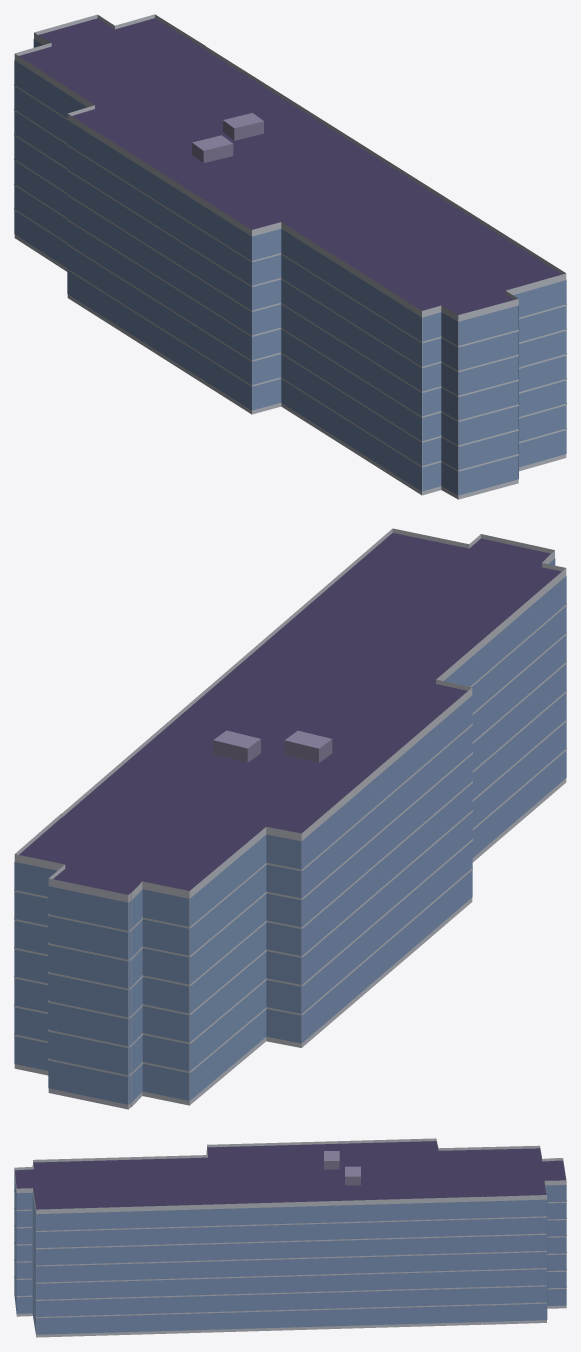
The model's file is b-135-thompson-engineering-building-day.glb.
3 views of the same model, one above another, from view 1: azimuth 30°, elevation 25°; view 2: azimuth 150°, elevation 25°; view 3: azimuth 270°, elevation 25° (orthographic). The views are drawn at different scales.
Visible parts, largest first — view 1: campus/b-135-thompson-engineering-building-day-0; view 2: campus/b-135-thompson-engineering-building-day-0; view 3: campus/b-135-thompson-engineering-building-day-0.
Part boxes in pixels (<box>): campus/b-135-thompson-engineering-building-day-0: <box>14,14,566,499</box>; campus/b-135-thompson-engineering-building-day-0: <box>14,528,566,1109</box>; campus/b-135-thompson-engineering-building-day-0: <box>14,1138,566,1337</box>.
Bounding box in the file's own units: 32.06 × 28 × 105.
